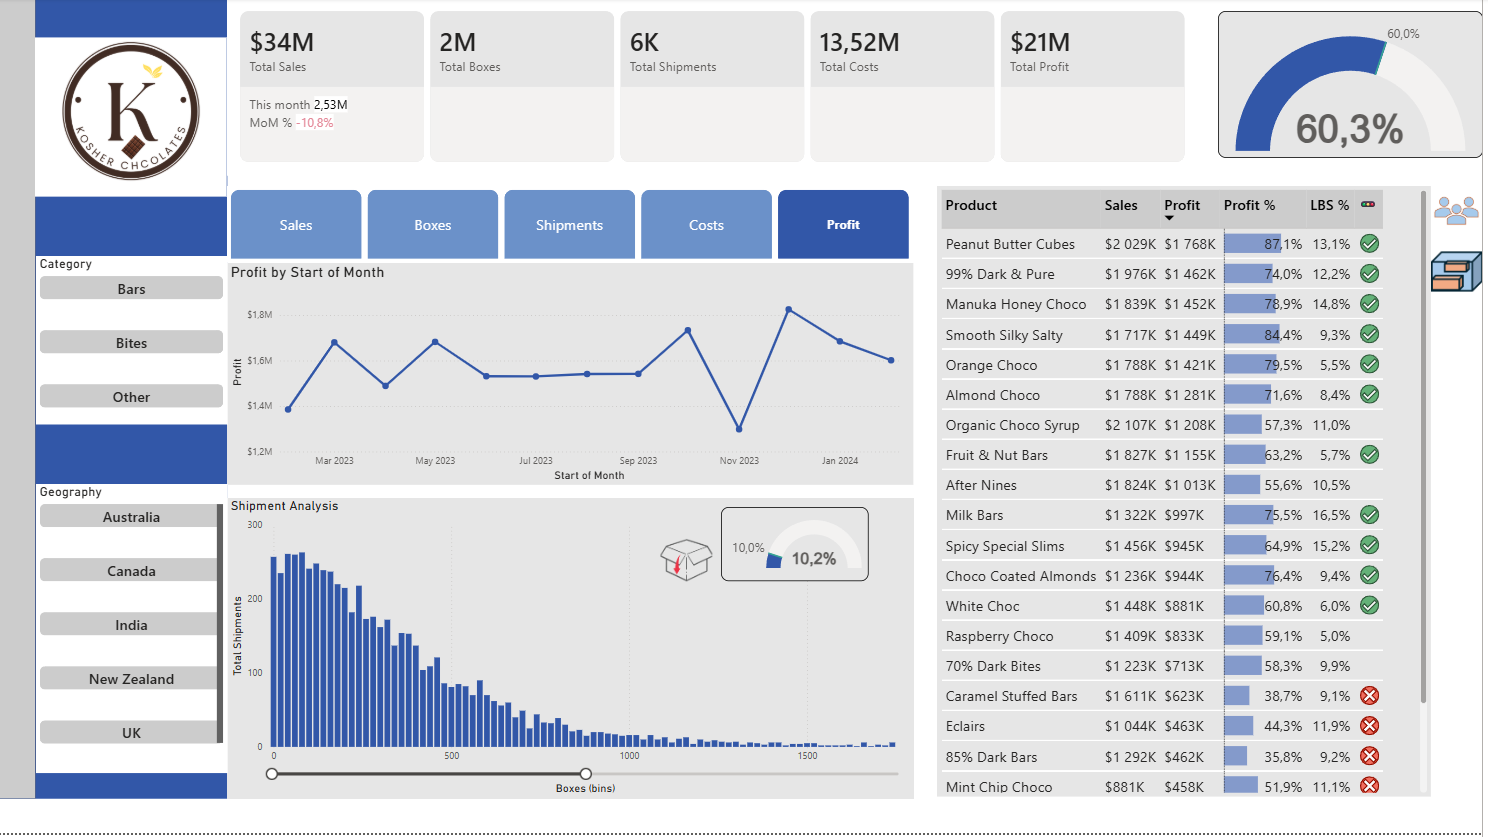

This screenshot's page, from the dashboard's own definition file:
{"tool":"powerbi","page":{"name":"Sales Analytics Dashboard","canvas":[1920,1080],"ordinal":0},"visuals":[{"type":"shape","box":[0,0,49,1036.5],"z":0},{"type":"shape","box":[49,0,247.6,1036.5],"z":1000},{"type":"cardVisual","fields":{"Data":["_measures.Total Sales","_measures.Total Boxes","_measures.Total Shipments","_measures.Total Costs","_measures.Total Profit"]},"box":[296.5,0,1259.5,229.9],"z":2000},{"type":"gauge","fields":{"Y":["_measures.Profit %"]},"box":[1577.8,16.3,342.8,190.4],"z":3000},{"type":"lineChart","fields":{"Y":["_measures.Total Profit"],"Category":["calendar.Start of Month"]},"box":[296.5,342.8,888.2,287],"z":4000},{"type":"advancedSlicerVisual","fields":{"Values":["Measure Selector .Measure Selector "]},"box":[296.5,243.5,888.2,99.3],"z":5000},{"type":"columnChart","title":"Shipment Analysis","fields":{"Category":["shipments.Boxes (bins)"],"Y":["_measures.Total Shipments"]},"box":[296.5,647.5,888.2,389],"z":6000},{"type":"gauge","fields":{"Y":["_measures.LBS %"]},"box":[935.4,658.5,191.5,95.7],"z":7000},{"type":"tableEx","title":"Products Details","fields":{"Values":["shipments.Product","_measures.Total Sales","_measures.Total Profit","_measures.Profit %","_measures.LBS %","_measures.Profit Target Indicator"]},"box":[1214.4,243.8,639,790.4],"z":9000},{"type":"image","box":[1854,321,66.6,65.3],"z":10000},{"type":"image","title":"Sales Rep Icon","box":[1854,243.5,65.3,63.9],"z":11000},{"type":"listSlicer","fields":{"Values":["shipments.Geography"]},"box":[49.2,630.1,247.1,371.3],"z":12000},{"type":"listSlicer","fields":{"Values":["products.Category"]},"box":[49,333.2,247.6,217.6],"z":13000},{"type":"image","box":[48.5,0,248.3,307.4],"z":14000},{"type":"image","box":[855.5,698,71.2,56],"z":15000}]}

Visuals, with their boxes in screenshot pixels (x1, y1, x2, y2), scaled from the page's 1920x1080 canvas onto the 1488x837 screenshot:
shape: [left=0, top=0, right=38, bottom=803]
shape: [left=38, top=0, right=230, bottom=803]
cardVisual - _measures.Total Sales x _measures.Total Boxes: [left=230, top=0, right=1206, bottom=178]
gauge - _measures.Profit %: [left=1223, top=13, right=1487, bottom=160]
lineChart - _measures.Total Profit x calendar.Start of Month: [left=230, top=266, right=918, bottom=488]
advancedSlicerVisual - Measure Selector .Measure Selector : [left=230, top=189, right=918, bottom=266]
"Shipment Analysis" columnChart: [left=230, top=502, right=918, bottom=803]
gauge - _measures.LBS %: [left=725, top=510, right=873, bottom=585]
"Products Details" tableEx: [left=941, top=189, right=1436, bottom=802]
image: [left=1437, top=249, right=1487, bottom=299]
"Sales Rep Icon" image: [left=1437, top=189, right=1487, bottom=238]
listSlicer - shipments.Geography: [left=38, top=488, right=230, bottom=776]
listSlicer - products.Category: [left=38, top=258, right=230, bottom=427]
image: [left=38, top=0, right=230, bottom=238]
image: [left=663, top=541, right=718, bottom=584]
